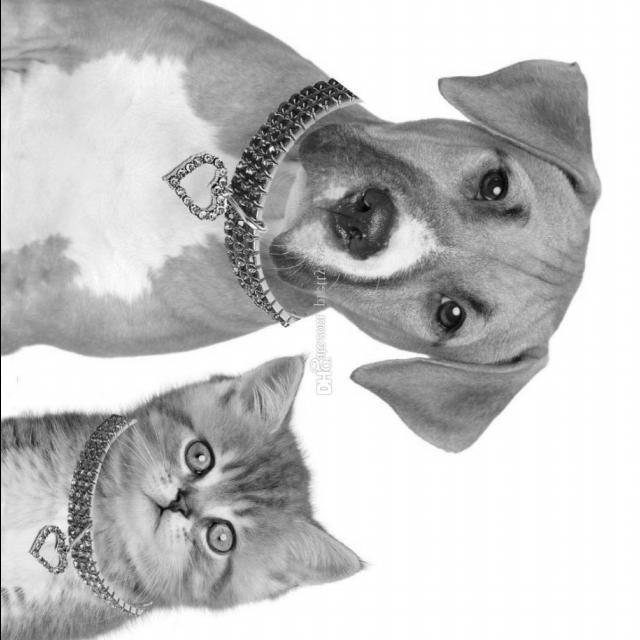Dogs: (0, 1, 605, 457)
